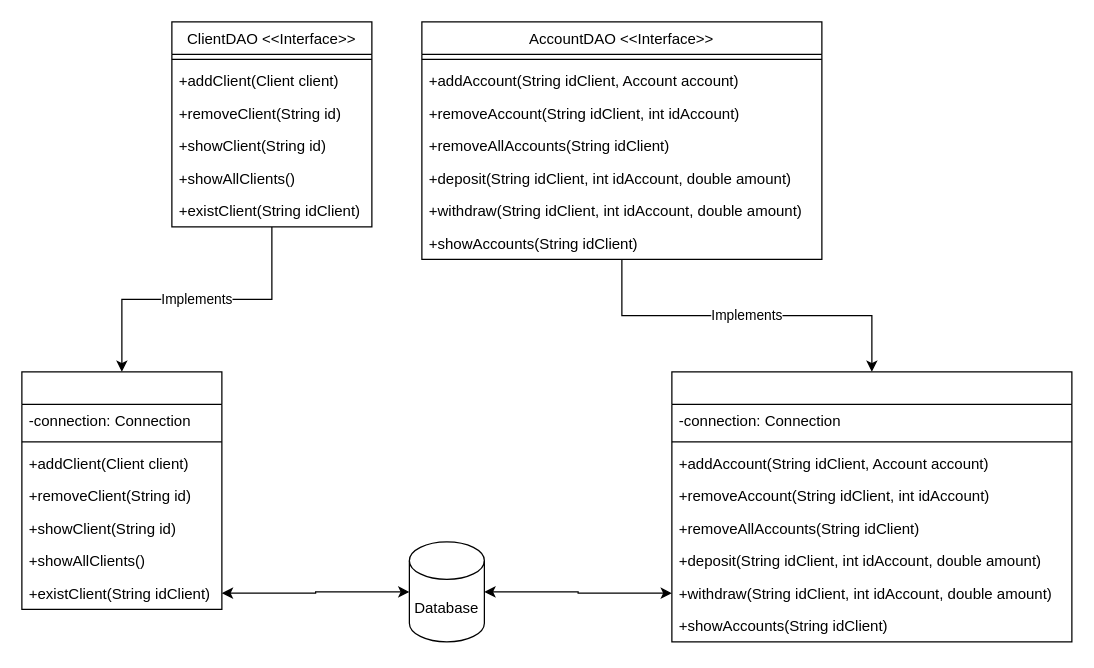
The diagram is 1094 pixels wide and 668 high, and some of its shapes have lost their labels. The shapes that lost their labels are listed below. From the top down, each one's box as (x1, y1, x2, y2) in pixels, then its label:
(21, 371, 222, 609): ClientDAOImpl
(671, 371, 1072, 642): AccountDAOImpl
